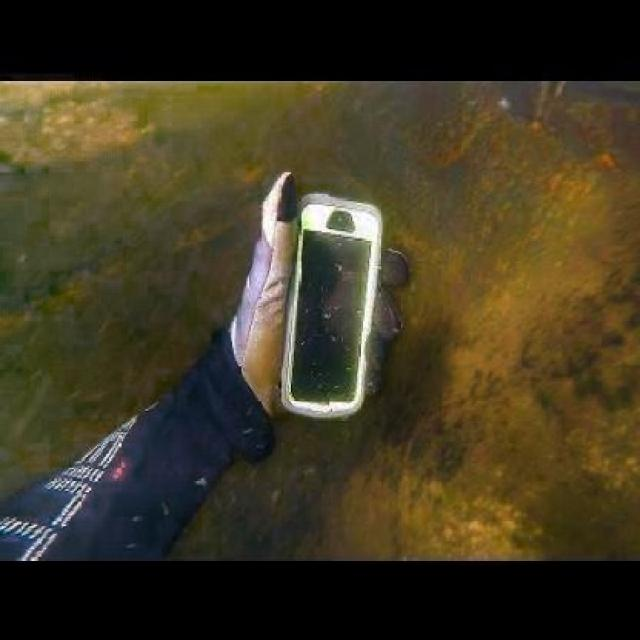cellphone: (283, 192, 379, 423)
